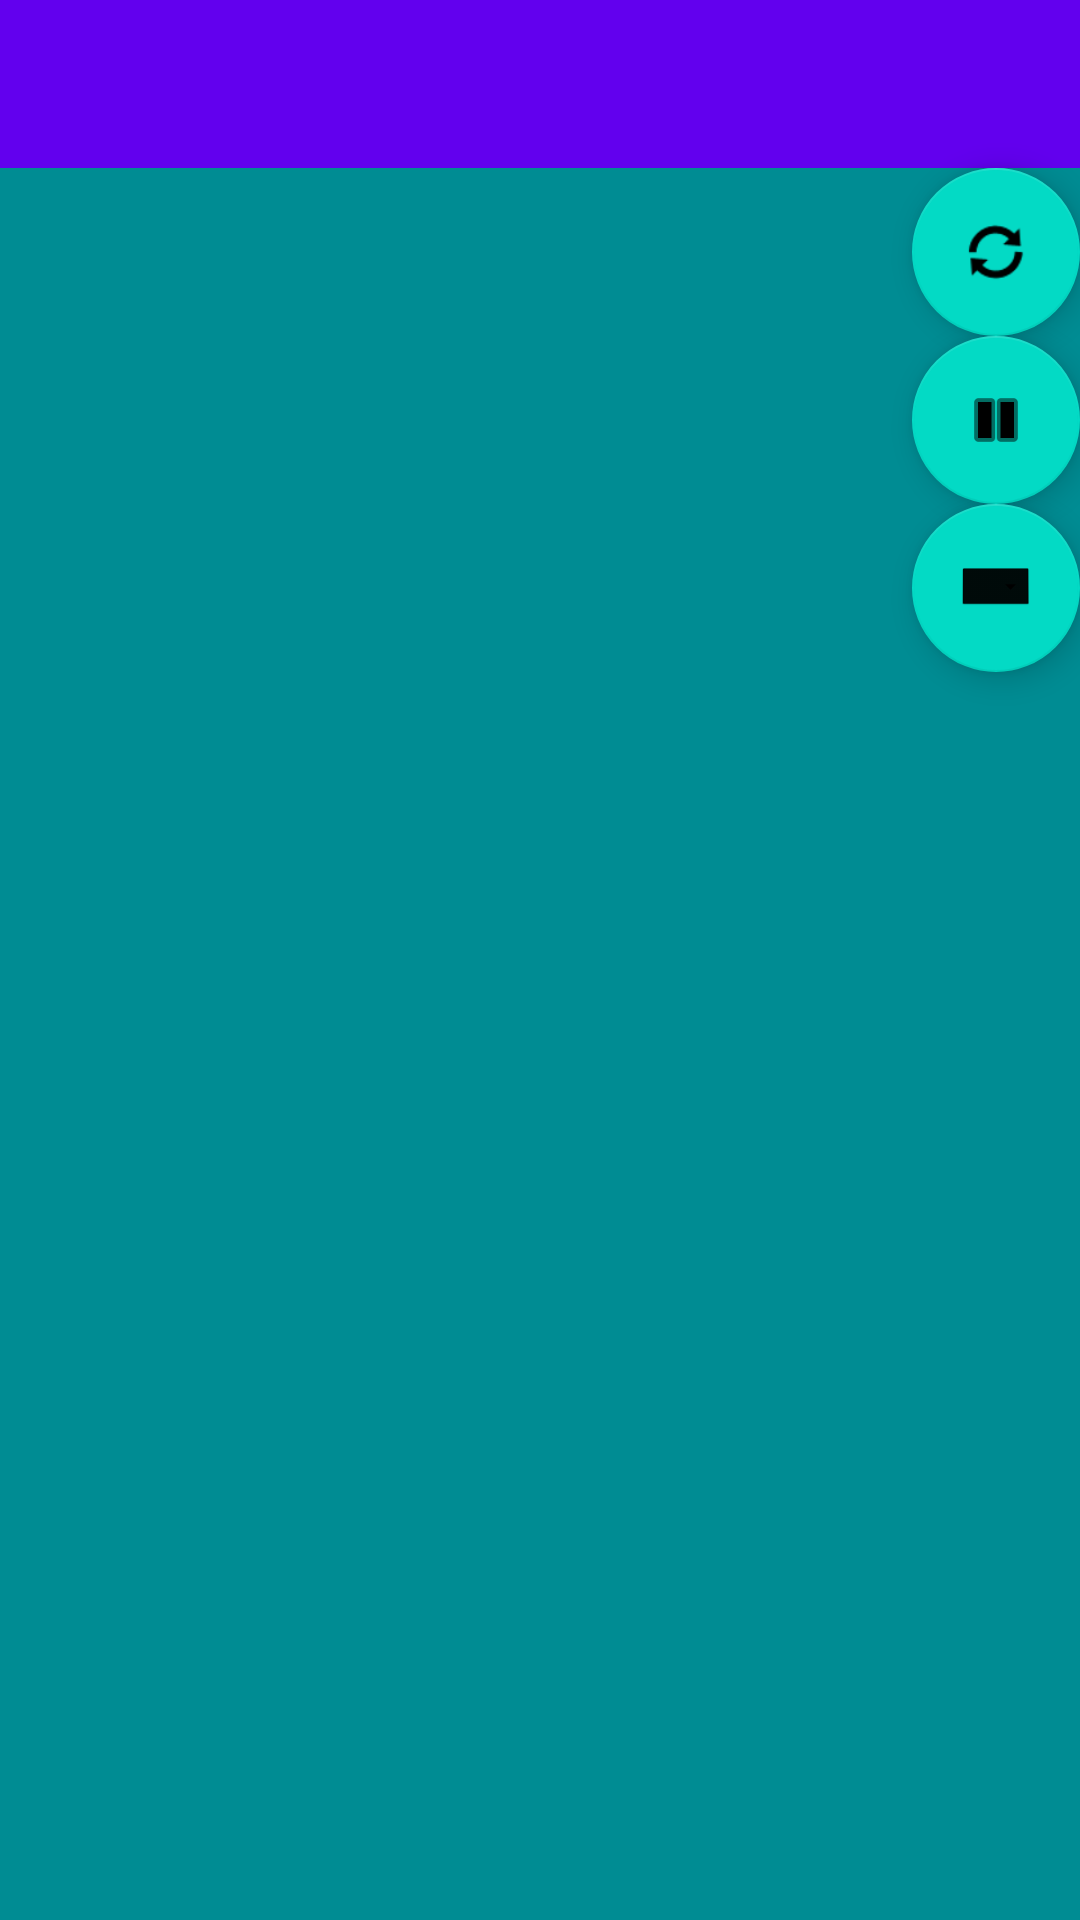

Icons on this 1080x1920 Android screen, each with the point to tap as point (x, y):
pause: point (996, 420)
popup sync: point (996, 252)
